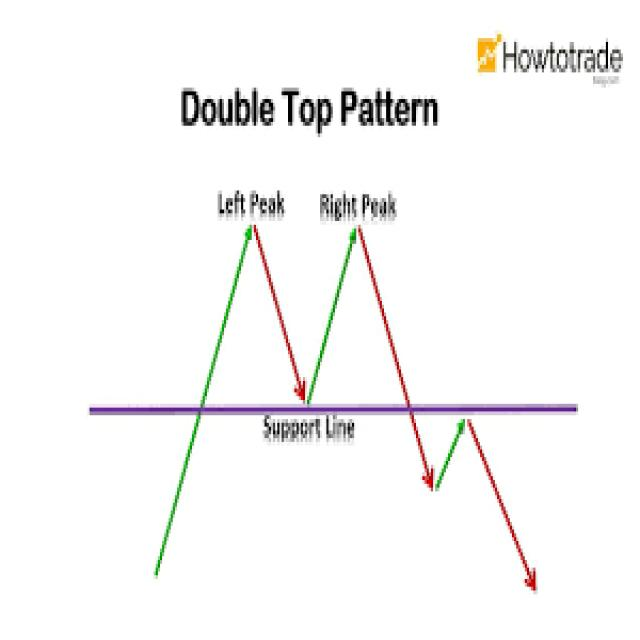topo_duplo: (153, 206, 457, 576)
